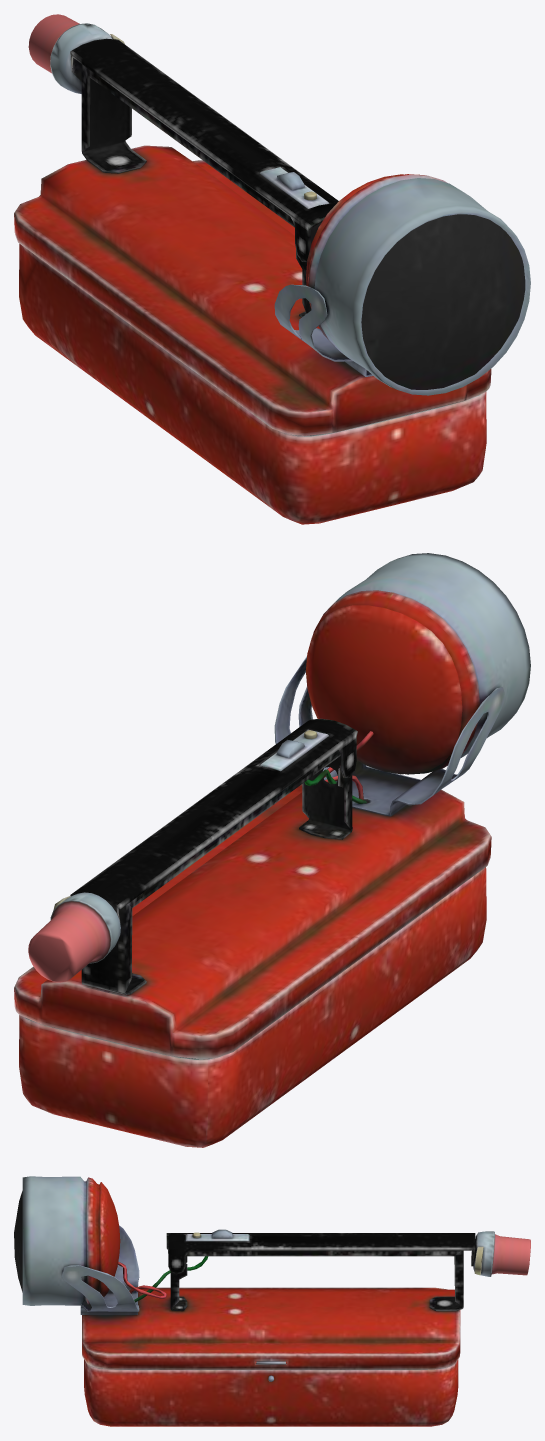
Rendered from vintage_flashlight.glb.
The picture shows the model from 3 angles, top to bottom: view 1: azimuth 30°, elevation 25°; view 2: azimuth 150°, elevation 25°; view 3: azimuth 270°, elevation 25°; orthographic projection. The views are drawn at different scales.
Parts seen in each view (by area): view 1: vintage_flashlight; view 2: vintage_flashlight; view 3: vintage_flashlight.
Boxes of the visible parts, x1,y1,x2,y2 form: vintage_flashlight: [14, 14, 530, 524]; vintage_flashlight: [14, 553, 530, 1147]; vintage_flashlight: [14, 1176, 530, 1426].
Bounding box in the file's own units: 0.0956 × 0.1443 × 0.3052.
2 materials, 2 textured.
